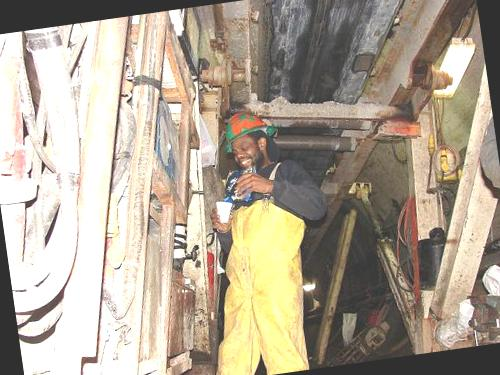person: (185, 100, 350, 375)
